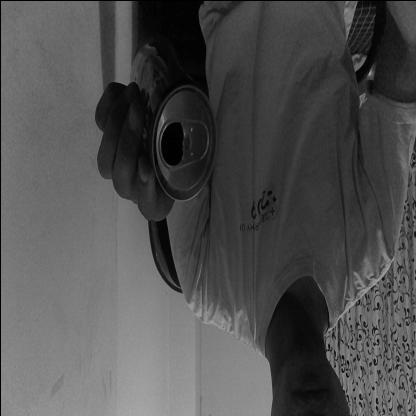alumunium_can: (126, 26, 216, 202)
